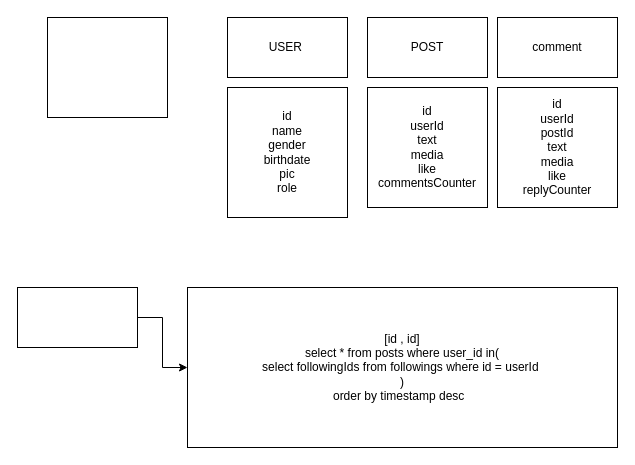
The diagram is 635 pixels wide and 465 high, and some of its shapes have lost their labels. Each missing label, with the box of its shape:
1- post 2- lik / dis 3- comment 4- follow: (46, 16, 168, 118)
client www.masrawy.com: (16, 286, 138, 348)
